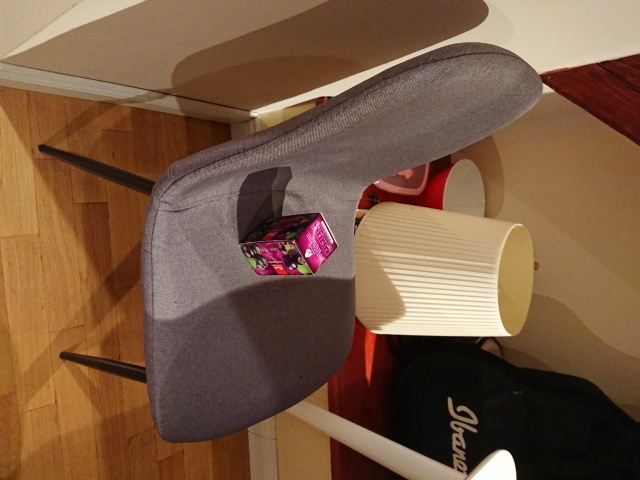Franck Black Currant Tea 60g: (236, 210, 341, 278)
